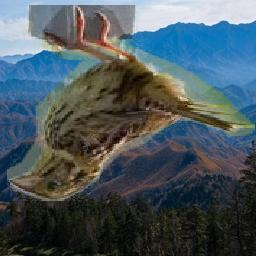Sparrow: (7, 5, 255, 201)
